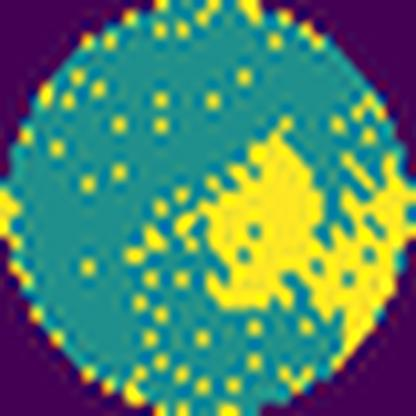Loc: (193, 110, 412, 374)
